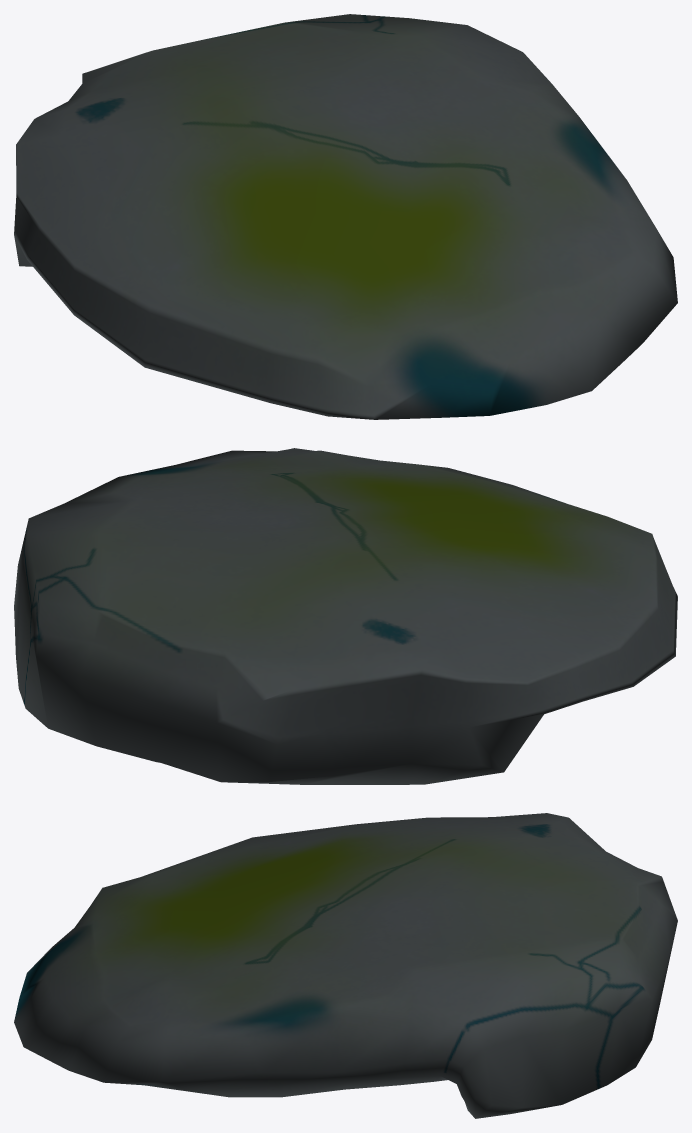
Rendered from stone10.fbx.
3 renders of one model, top to bottom at view 1: azimuth 30°, elevation 25°; view 2: azimuth 150°, elevation 25°; view 3: azimuth 270°, elevation 25°, orthographic. The views are drawn at different scales.
Visible parts, largest first — view 1: polySurface15; view 2: polySurface15; view 3: polySurface15.
Part boxes in pixels (box(x1,y1,x2,y2)): polySurface15: box(14, 14, 677, 419); polySurface15: box(14, 448, 677, 784); polySurface15: box(14, 813, 677, 1118).
Size of the model in its own units: 2.53 by 0.7869 by 2.96.
Materials: 1 (1 with a texture image).
